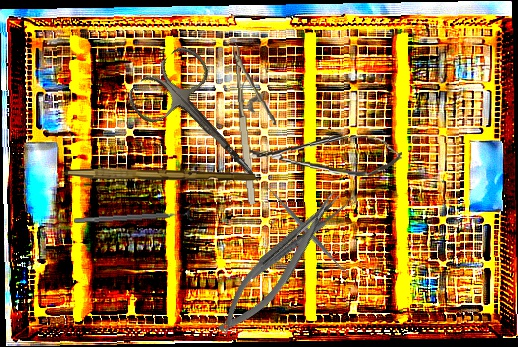Fixation Ring: (73, 202, 196, 231)
Iris Scissors: (122, 40, 289, 211)
Micro Scissor: (236, 129, 403, 179)
Needle Holder: (206, 184, 355, 343), (232, 40, 282, 206)
Scalpel Handle: (65, 169, 255, 182)
Spatula Surgical: (261, 181, 352, 280)
Surgical Spoon: (249, 196, 357, 281)
